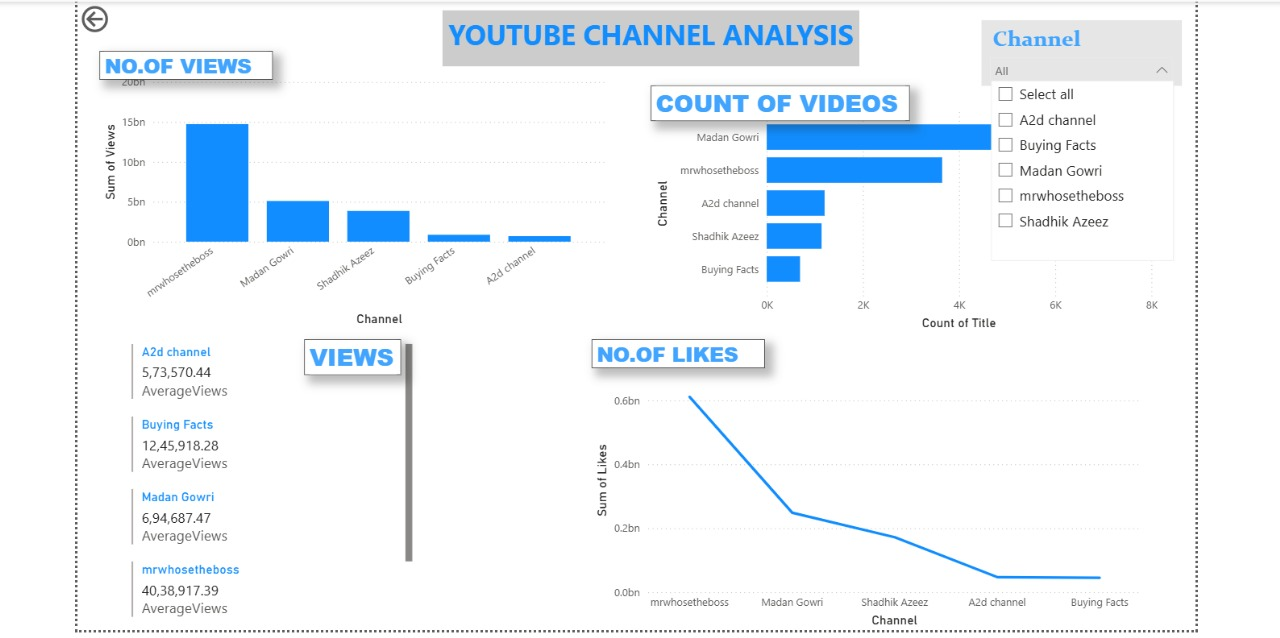

Layout of this report page (visuals, bound fields, positions):
{"tool":"powerbi","page":{"name":"Page 1","canvas":[1280,720],"ordinal":0},"visuals":[{"type":"columnChart","fields":{"Category":["AllChannelsData.Channel"],"Y":["AllChannelsData.Views"]},"box":[23.4,57.7,584.7,318.1],"z":0},{"type":"barChart","fields":{"Category":["AllChannelsData.Channel"],"Y":["AllChannelsData.Title"]},"box":[656.4,93.5,584.7,286.9],"z":1},{"type":"multiRowCard","fields":{"Values":["AllChannelsData.Channel","AllChannelsData.AverageViews"]},"box":[56.1,386.7,332.1,333.7],"z":2},{"type":"actionButton","box":[0,0,100,40],"z":3},{"type":"textbox","title":"VIEWS","box":[260.4,386.7,110.7,40.5],"z":4},{"type":"lineChart","fields":{"Category":["AllChannelsData.Channel"],"Y":["AllChannelsData.Likes"]},"box":[587.8,386.7,634.6,333.7],"z":5},{"type":"textbox","title":"COUNT OF VIDEOS","box":[656.4,96.7,296.2,40.5],"z":6},{"type":"textbox","title":"NO.OF VIEWS","box":[24.9,56.1,198,32.7],"z":7},{"type":"textbox","title":"NO.OF LIKES","box":[589.4,386.7,198,32.7],"z":8},{"type":"slicer","fields":{"Values":["AllChannelsData.Channel"]},"box":[1035.3,21.8,229.2,74.8],"z":9},{"type":"textbox","box":[417.9,9.4,477.1,63.9],"z":10}]}

Visuals, with their boxes on the page's 1280x720 design canvas (x1, y1, x2, y2). These are canvas units, not pixel positions in the 1280x638 screenshot, which may show the page scaled, cropped or inside an application window:
columnChart - AllChannelsData.Channel x AllChannelsData.Views: <region>23, 58, 608, 376</region>
barChart - AllChannelsData.Channel x AllChannelsData.Title: <region>656, 94, 1241, 380</region>
multiRowCard - AllChannelsData.Channel x AllChannelsData.AverageViews: <region>56, 387, 388, 720</region>
actionButton: <region>0, 0, 100, 40</region>
"VIEWS" textbox: <region>260, 387, 371, 427</region>
lineChart - AllChannelsData.Channel x AllChannelsData.Likes: <region>588, 387, 1222, 720</region>
"COUNT OF VIDEOS" textbox: <region>656, 97, 953, 137</region>
"NO.OF VIEWS" textbox: <region>25, 56, 223, 89</region>
"NO.OF LIKES" textbox: <region>589, 387, 787, 419</region>
slicer - AllChannelsData.Channel: <region>1035, 22, 1264, 97</region>
textbox: <region>418, 9, 895, 73</region>
